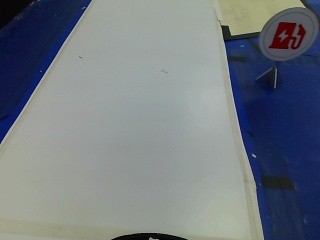battery: (260, 11, 314, 63)
